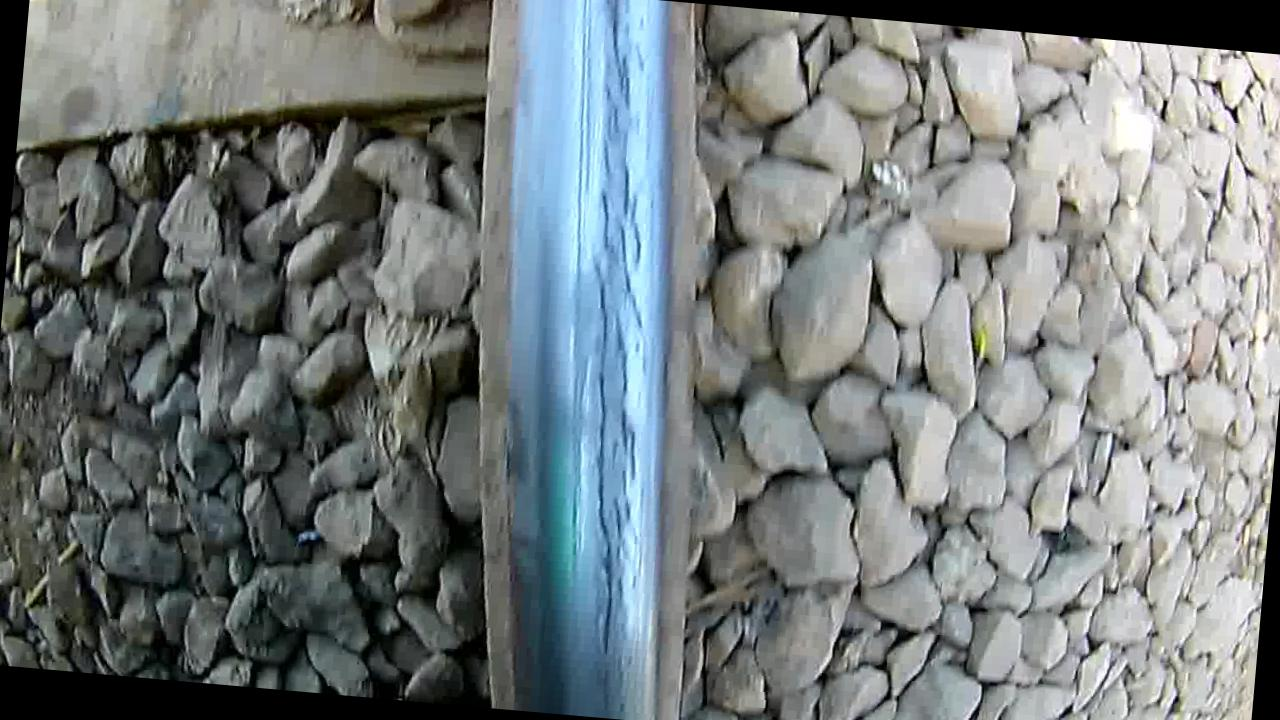normal_track: (513, 0, 689, 667)
